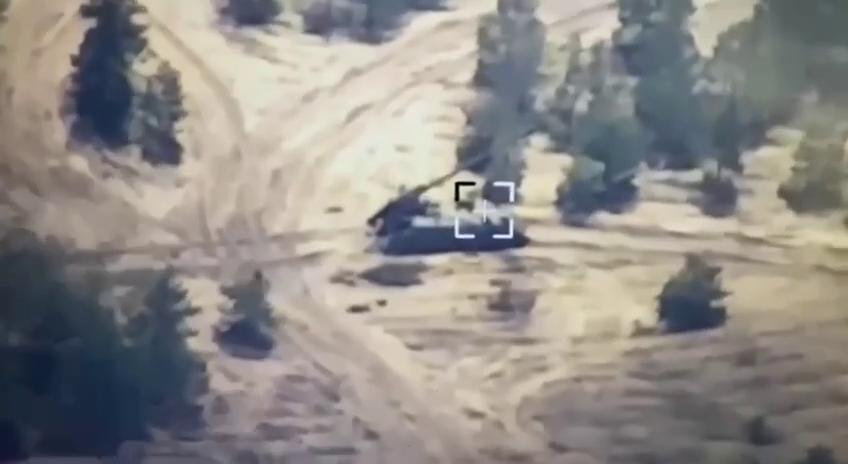tank: (364, 124, 535, 259)
